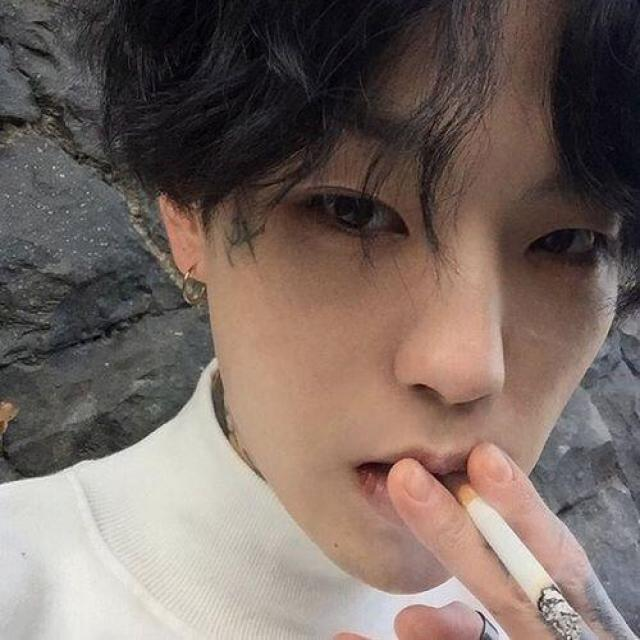cigarette: (422, 453, 639, 639)
